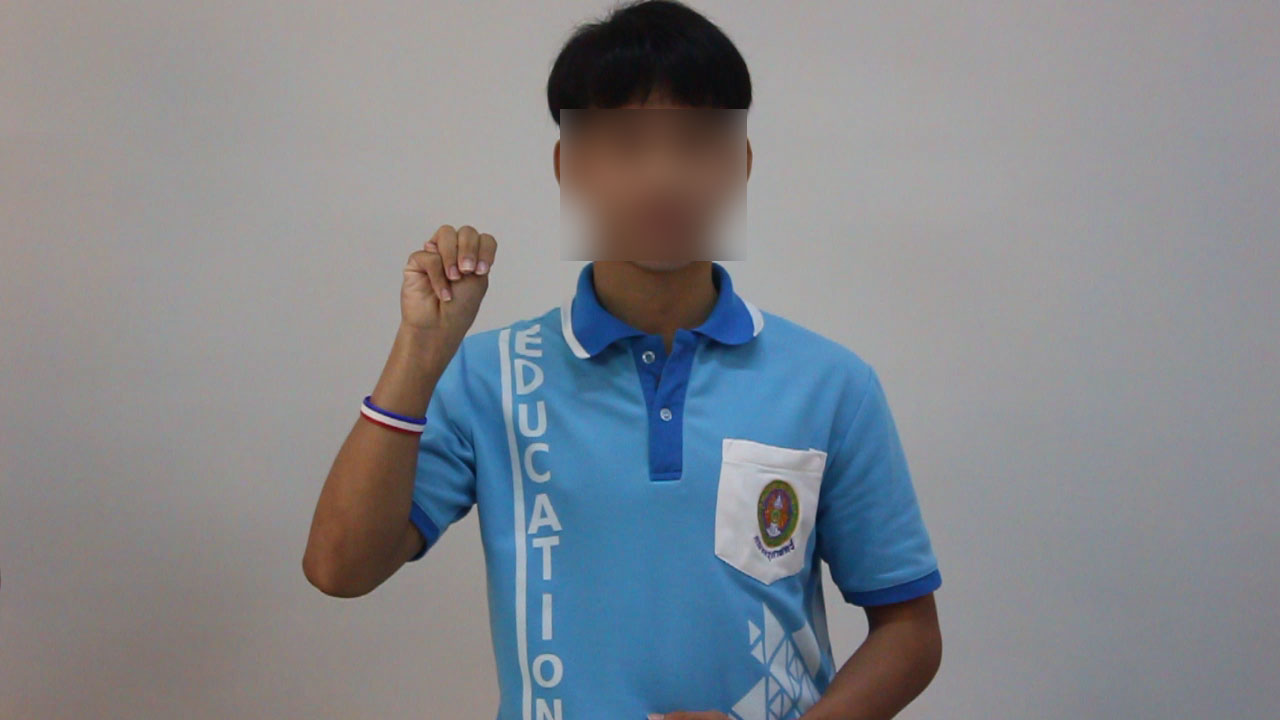mor: (390, 204, 503, 348)
